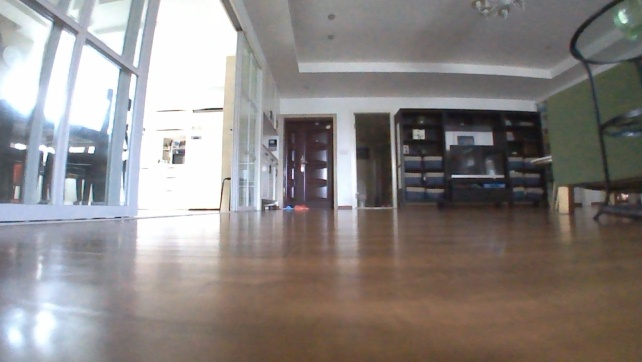door_anno: (282, 117, 335, 209)
sofa1: (541, 58, 641, 217)
